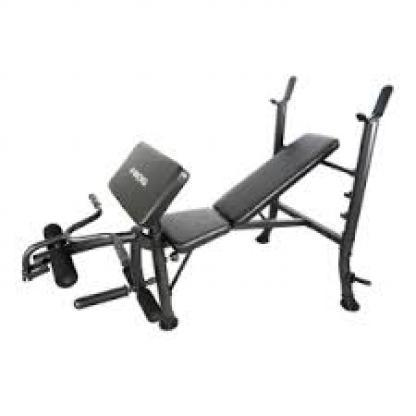arm curl machine: (20, 139, 227, 332)
